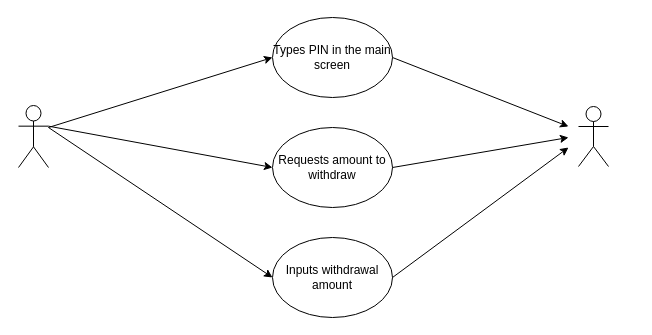
This 652x335 diagram has some shape labels left out. The shapes that lost their labels are listed below. From the top down, each one's centre as x and y in pixels, then its label:
At (33,136): "USER".
At (593,136): "ATM MACHINE".
